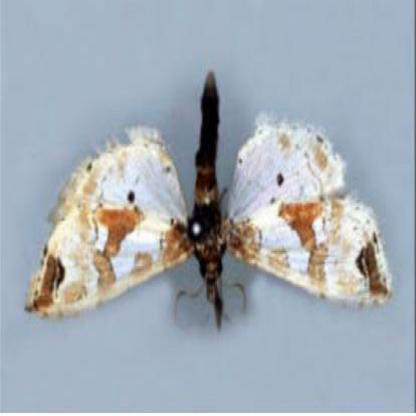leucinodes: (23, 67, 394, 325)
